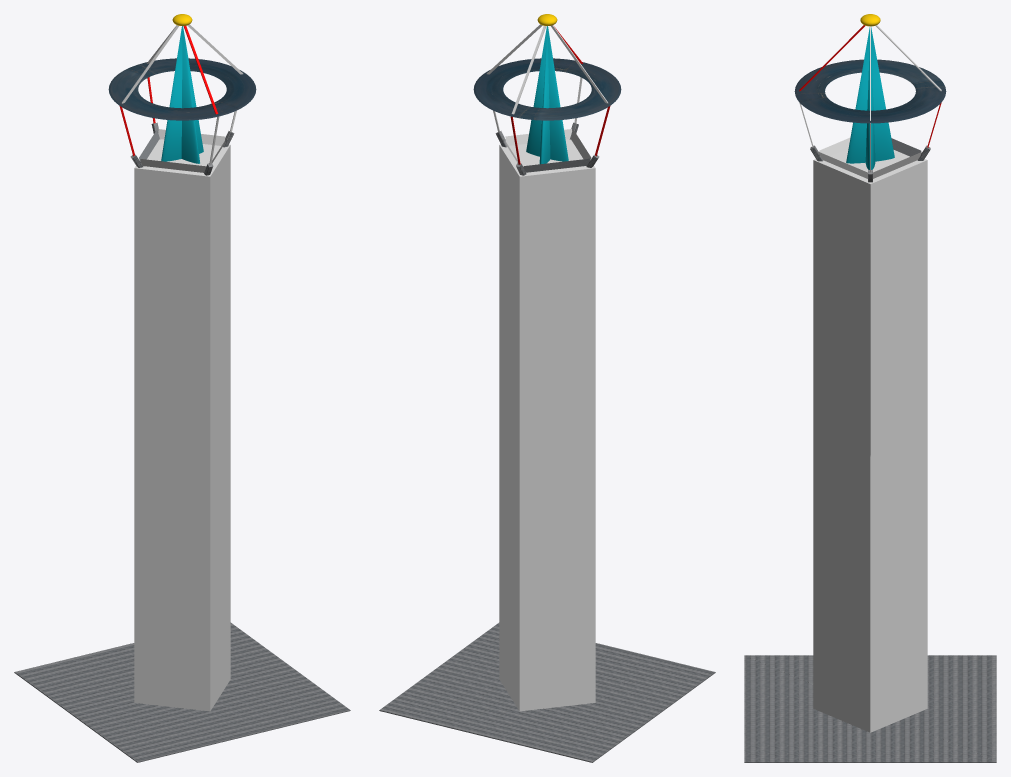
The model's file is Building_Tower_1.fbx.
3 views of the same model, side by side, from view 1: azimuth 30°, elevation 25°; view 2: azimuth 150°, elevation 25°; view 3: azimuth 270°, elevation 25° (orthographic). The views are drawn at different scales.
Parts seen in each view (by area): view 1: 立方体_本体, 立方体_地面, トーラス, 円錐_1, 円錐_2; view 2: 立方体_本体, 立方体_地面, トーラス, 円錐_1, 円錐_2; view 3: 立方体_本体, 立方体_地面, トーラス, 円錐_2, 円錐_1.
Part boxes in pixels (<box>): 立方体_本体: <box>134,139,230,711</box>; 立方体_地面: <box>14,622,350,762</box>; トーラス: <box>108,58,256,120</box>; 円錐_1: <box>161,26,203,161</box>; 円錐_2: <box>181,26,199,163</box>; 立方体_本体: <box>499,139,595,711</box>; 立方体_地面: <box>379,622,715,762</box>; トーラス: <box>473,58,621,120</box>; 円錐_1: <box>526,26,568,161</box>; 円錐_2: <box>539,26,550,164</box>; 立方体_本体: <box>813,149,927,732</box>; 立方体_地面: <box>744,655,996,762</box>; トーラス: <box>794,59,946,123</box>; 円錐_2: <box>846,26,894,163</box>; 円錐_1: <box>865,41,875,169</box>.
Size of the model in its own units: 5000 by 15166 by 5000.
8 materials, 3 textured.
